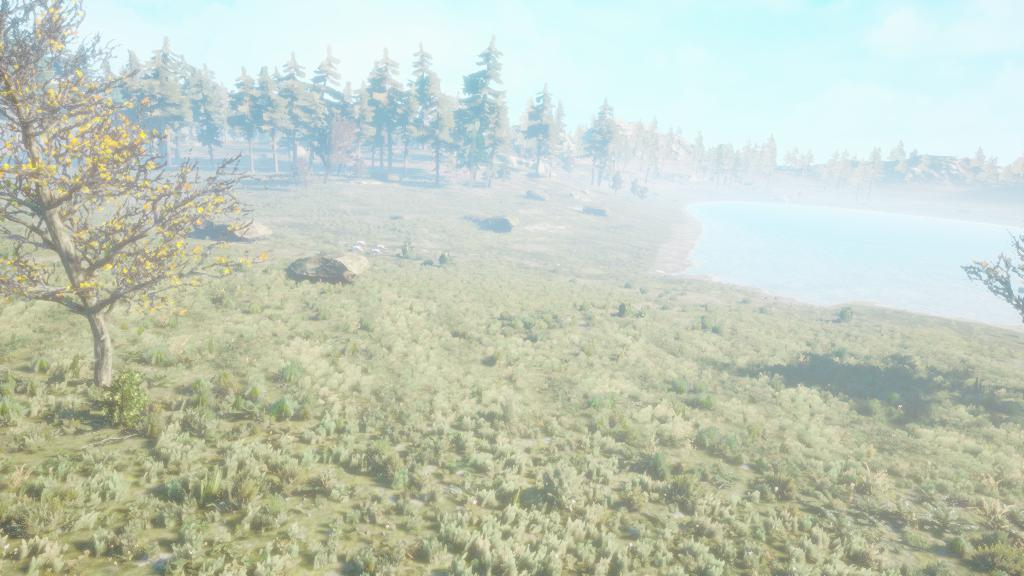pig: (355, 239, 367, 248), (370, 248, 382, 257), (350, 245, 363, 253), (375, 244, 387, 251)
